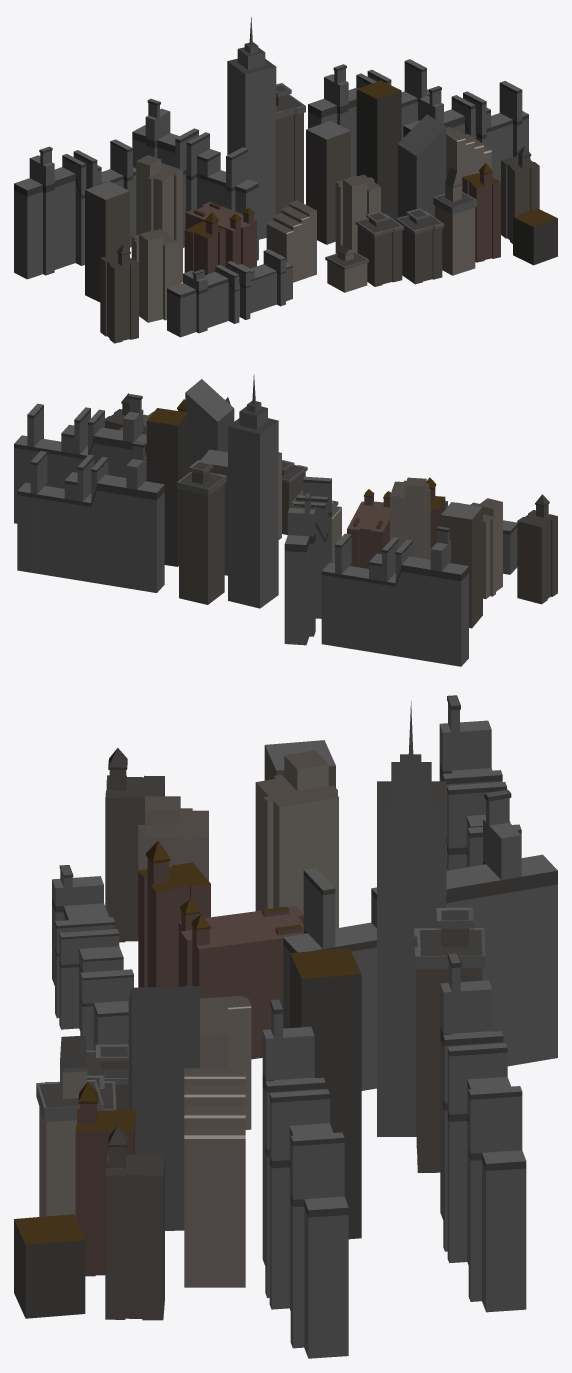
Rendered from City.fbx.
The picture shows the model from 3 angles, top to bottom: view 1: azimuth 30°, elevation 25°; view 2: azimuth 150°, elevation 25°; view 3: azimuth 270°, elevation 25°; orthographic projection. The views are drawn at different scales.
Parts seen in each view (by area): view 1: pCube39; view 2: pCube39; view 3: pCube39.
Boxes of the visible parts, x1,y1,x2,y2 form: pCube39: (14,17,557,343); pCube39: (14,374,557,666); pCube39: (14,695,557,1358).
Size of the model in its own units: 60.03 by 27.07 by 31.14.
